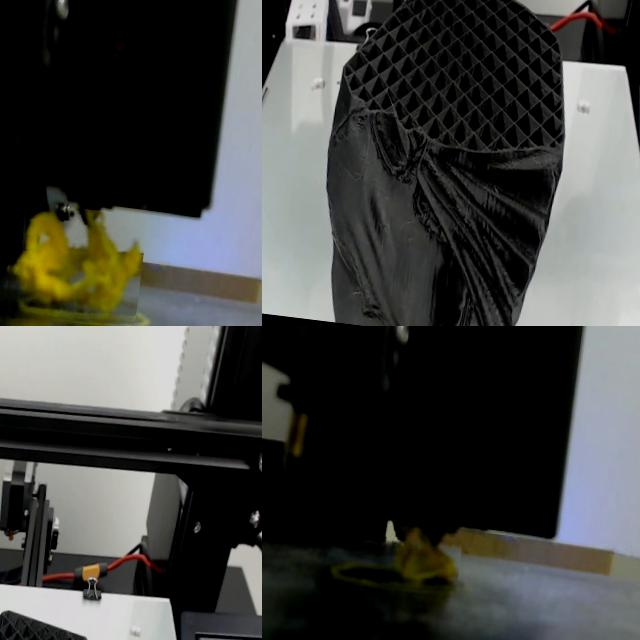spaghetti: (0, 199, 147, 326), (377, 530, 462, 596)
